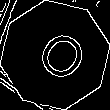O_SW: (23, 22, 87, 88)
